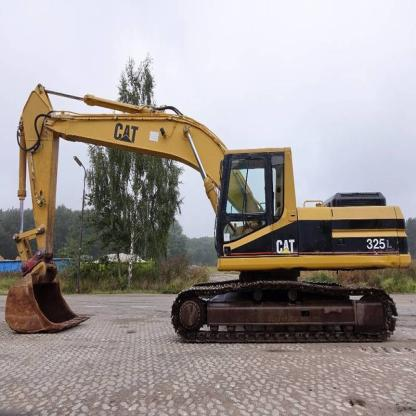excavator: (9, 69, 413, 368)
